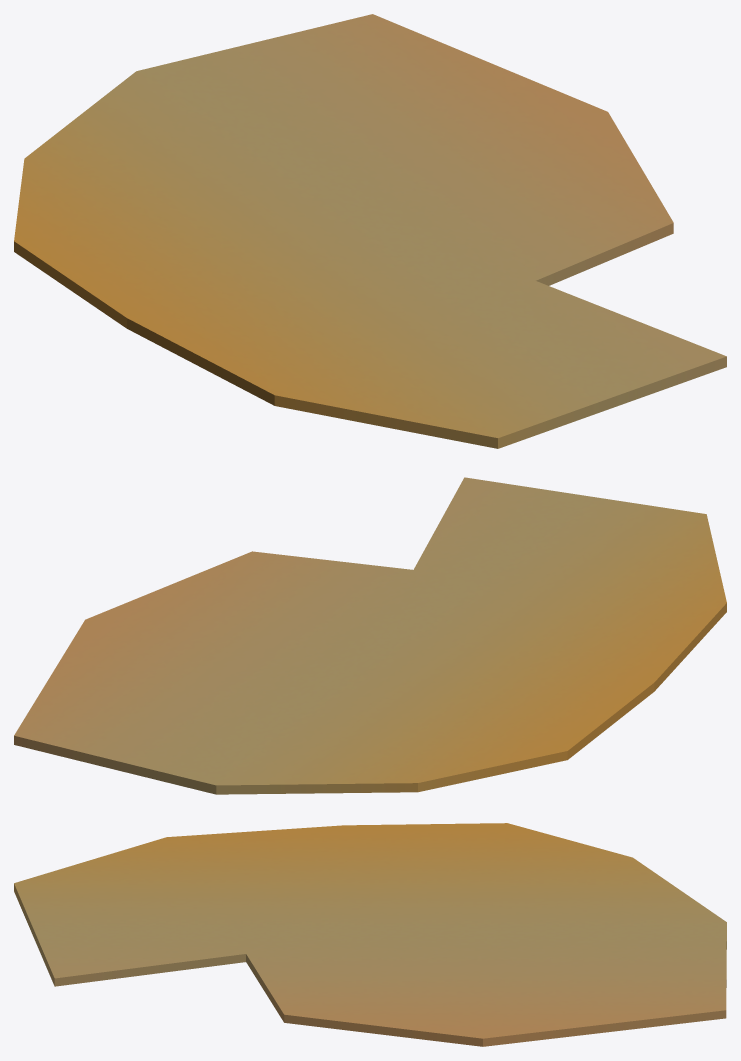
Rendered from Canyon_Ground_002.FBX.
The picture shows the model from 3 angles, top to bottom: view 1: azimuth 30°, elevation 25°; view 2: azimuth 150°, elevation 25°; view 3: azimuth 270°, elevation 25°; orthographic projection. The views are drawn at different scales.
Parts seen in each view (by area): view 1: Canyon_Ground_002; view 2: Canyon_Ground_002; view 3: Canyon_Ground_002.
Boxes of the visible parts, x1,y1,x2,y2 form: Canyon_Ground_002: (14,14,726,448); Canyon_Ground_002: (14,477,726,794); Canyon_Ground_002: (14,823,726,1046).
Bounding box in the file's own units: 1134 × 20.07 × 1585.
Materials: 1 (1 with a texture image).
